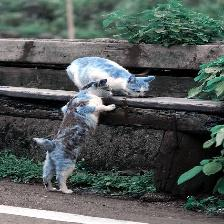kedo: (33, 79, 115, 194), (65, 56, 156, 97)
